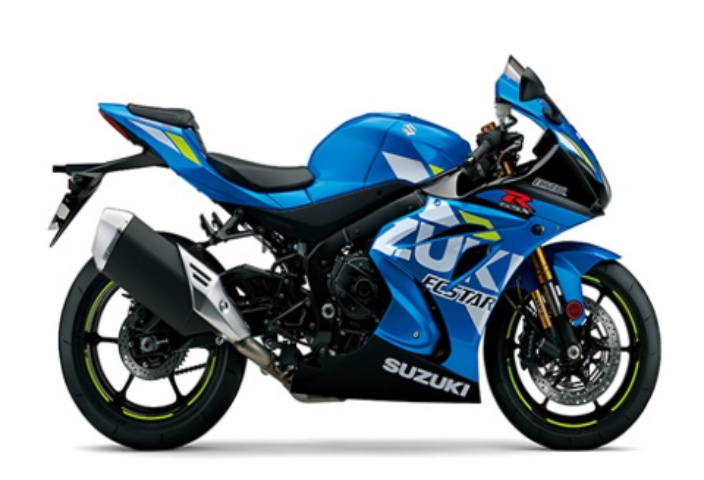motorcycle: (21, 63, 683, 450)
